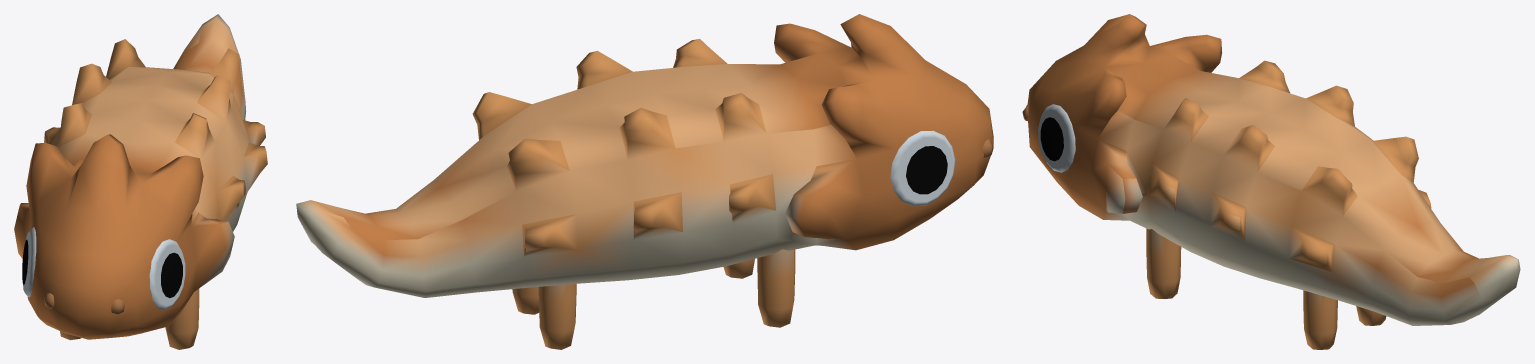
File: HornedLizard.glb
3 views of the same model, side by side, from view 1: azimuth 30°, elevation 25°; view 2: azimuth 150°, elevation 25°; view 3: azimuth 270°, elevation 25° (orthographic). The views are drawn at different scales.
Visible parts, largest first — view 1: 71; view 2: 71; view 3: 71.
Boxes of the visible parts, x1,y1,x2,y2 form: 71: (14,14,267,349); 71: (296,14,993,349); 71: (1022,14,1520,349).
Bounding box in the file's own units: 0.7566 × 0.4419 × 0.8273.
